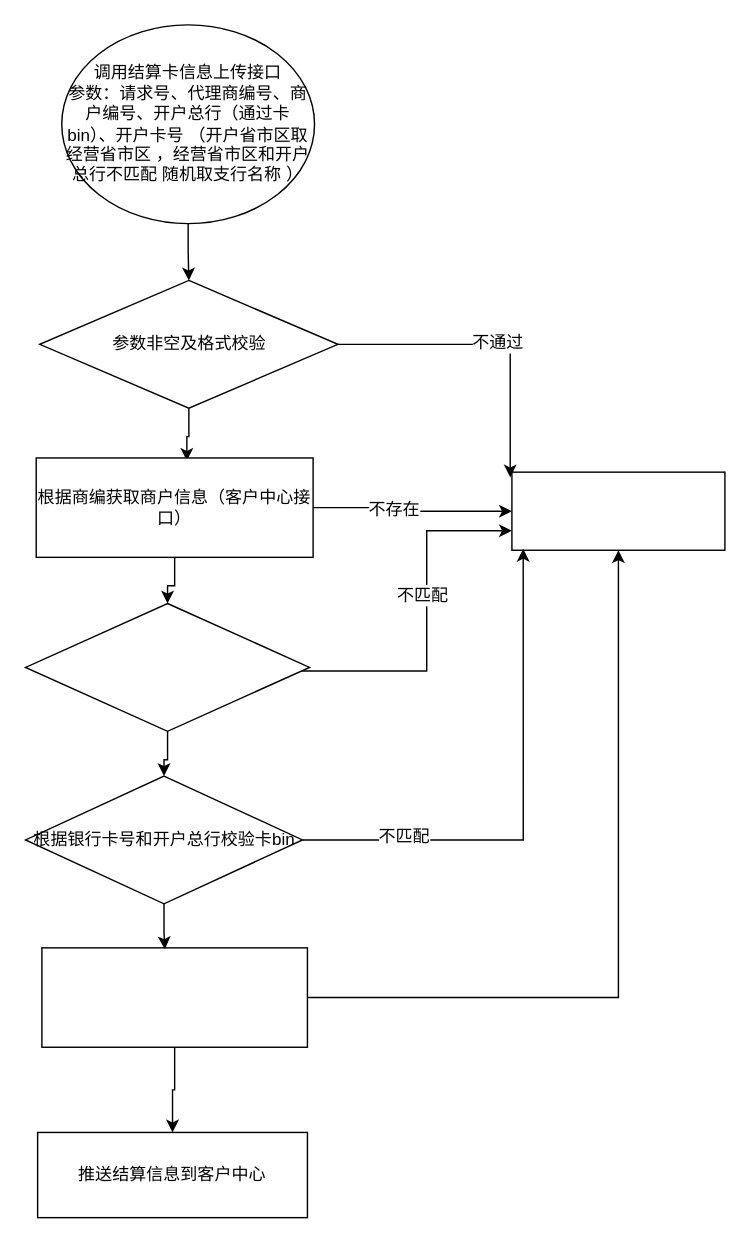
The diagram is 750 pixels wide and 1243 high, and some of its shapes have lost their labels. The box of each missing label's shape, as (x1, y1, x2, y2) in pixels:
抛异常（具体错误码）: (510, 471, 725, 550)
校验父子关系: (24, 602, 310, 731)
调用结算卡信息认证接口 参数：法人名称，银行卡卡号: (40, 946, 307, 1047)
